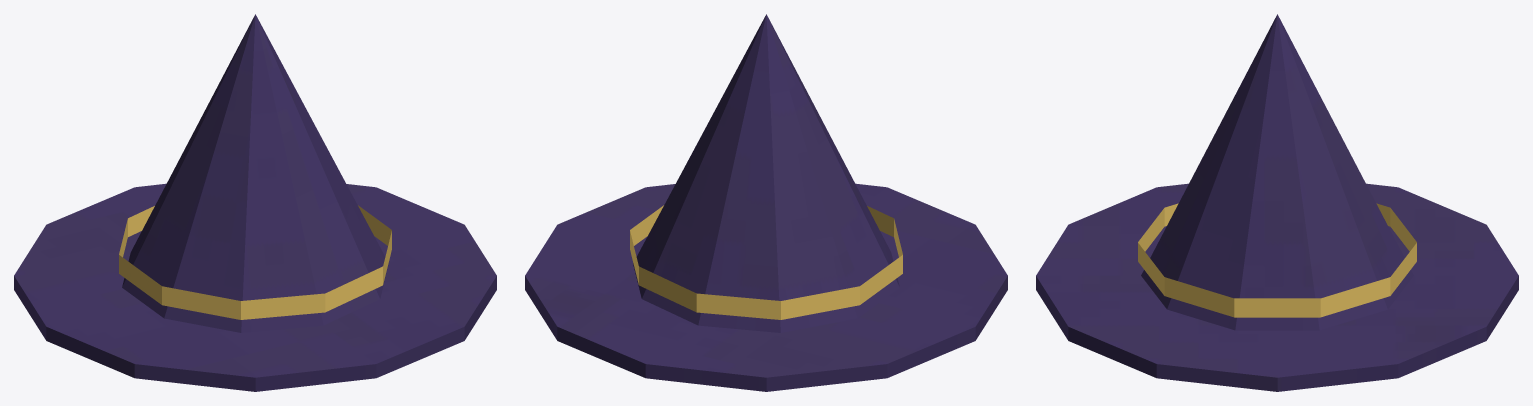
Rendered from acc_hat_pointed.glb.
3 views of the same model, side by side, from view 1: azimuth 30°, elevation 25°; view 2: azimuth 150°, elevation 25°; view 3: azimuth 270°, elevation 25° (orthographic).
Parts seen in each view (by area): view 1: acc_hat_pointed; view 2: acc_hat_pointed; view 3: acc_hat_pointed.
Boxes of the visible parts, x1=… form: acc_hat_pointed: x1=14, y1=14, x2=496, y2=391; acc_hat_pointed: x1=525, y1=14, x2=1007, y2=391; acc_hat_pointed: x1=1036, y1=14, x2=1518, y2=391.
Size of the model in its own units: 0.46 by 0.29 by 0.46.
Materials: 2 (2 with a texture image).
